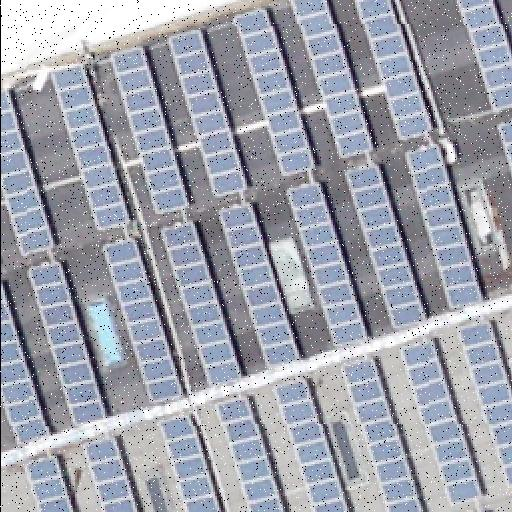solar-panel: (396, 340, 484, 508), (157, 219, 243, 389), (165, 31, 251, 201), (217, 203, 303, 373), (280, 181, 368, 347), (101, 238, 187, 406), (230, 8, 314, 180), (47, 62, 129, 234), (111, 44, 193, 216), (399, 143, 481, 313), (27, 260, 109, 428), (343, 164, 425, 332), (288, 0, 372, 160), (337, 358, 423, 512), (352, 1, 432, 143), (267, 377, 349, 511), (452, 320, 512, 488), (1, 86, 55, 258), (0, 280, 52, 452), (214, 393, 282, 511), (454, 0, 512, 112), (157, 416, 219, 512), (79, 433, 137, 511), (22, 454, 74, 512), (496, 125, 512, 179), (508, 499, 512, 509)
